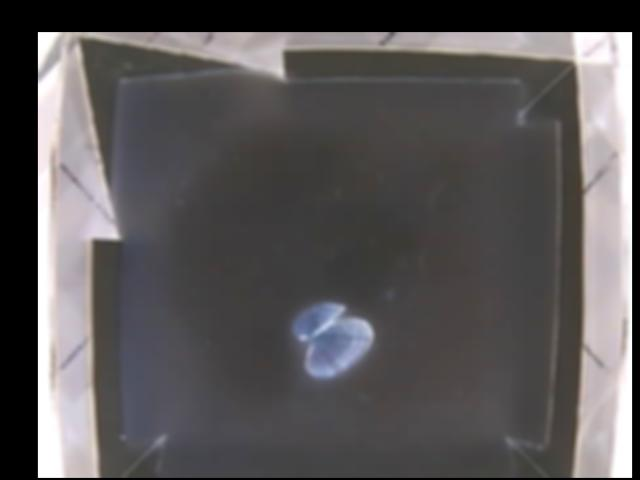Shell: (293, 305, 373, 376)
